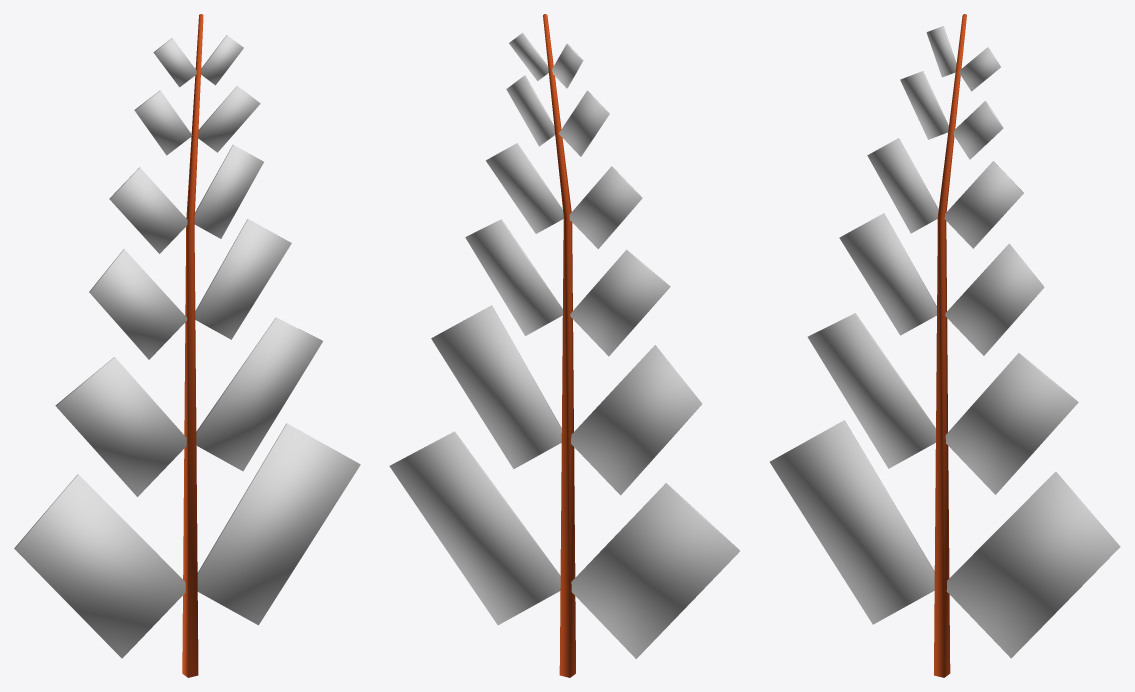
Rendered from Generic_plant_v2.fbx.
3 views of the same model, side by side, from view 1: azimuth 30°, elevation 25°; view 2: azimuth 150°, elevation 25°; view 3: azimuth 330°, elevation 25° (orthographic).
Visible parts, largest first — view 1: GenericPlant_LOD0; view 2: GenericPlant_LOD0; view 3: GenericPlant_LOD0.
Part boxes in pixels (x1,y1,x2,y2): GenericPlant_LOD0: [14, 14, 360, 677]; GenericPlant_LOD0: [389, 14, 739, 677]; GenericPlant_LOD0: [770, 14, 1120, 677].
Size of what is drawn, in the model's own units: 241 by 433 by 20.5.
